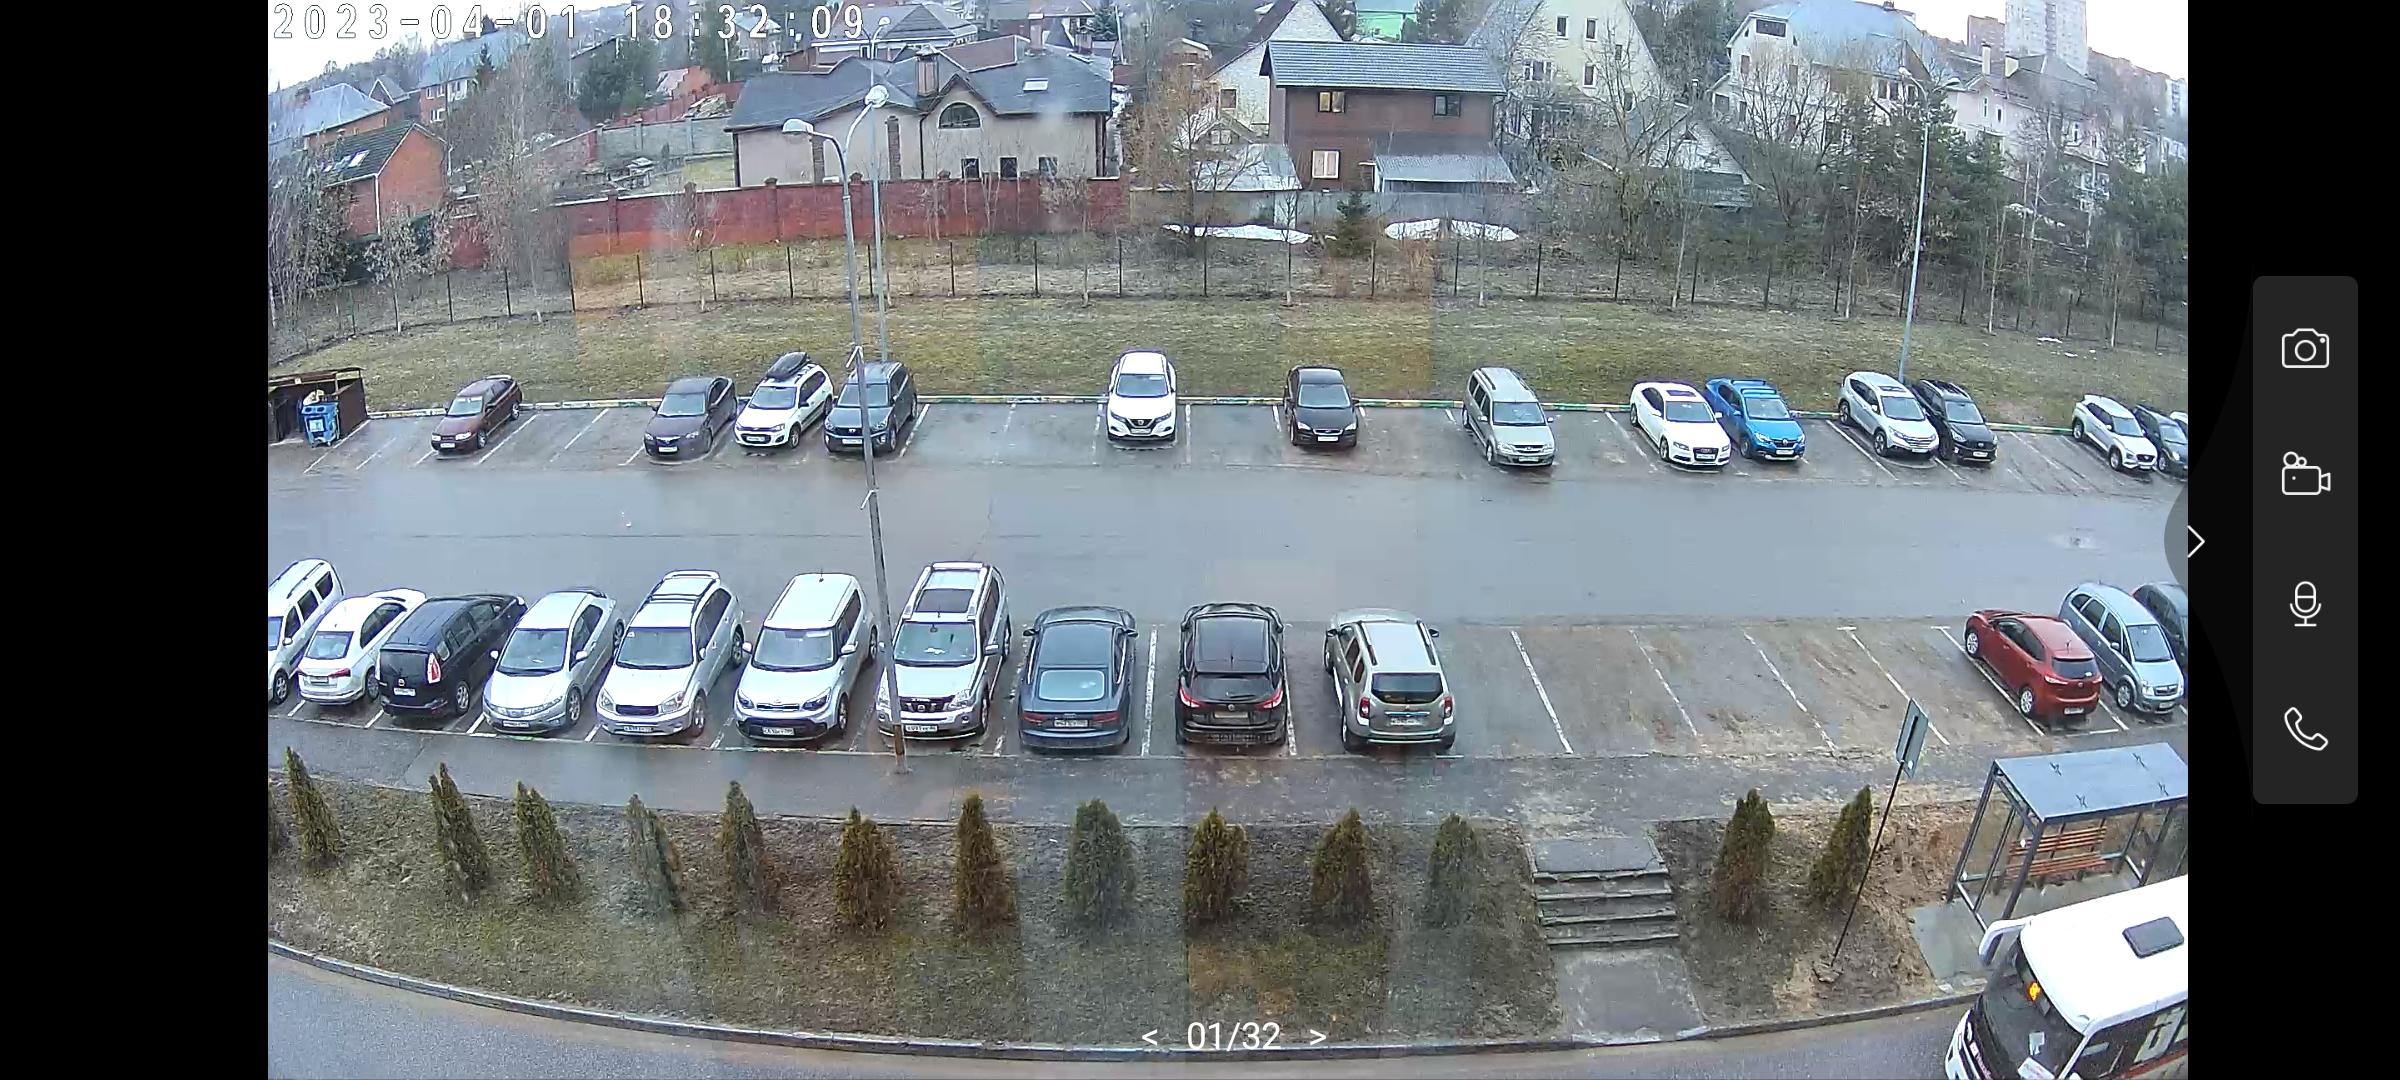empty: (1997, 867, 2216, 1080), (718, 575, 882, 747), (456, 587, 618, 743), (314, 584, 493, 724), (1001, 607, 1153, 760), (1156, 609, 1310, 756), (1329, 618, 1488, 754), (1958, 610, 2124, 731), (274, 574, 401, 710), (1835, 373, 1981, 467), (1616, 378, 1759, 473), (1449, 370, 1577, 476), (1081, 350, 1209, 453), (719, 356, 843, 457), (399, 376, 531, 462), (1696, 382, 1821, 471), (801, 358, 912, 457), (1263, 364, 1381, 457), (2100, 595, 2190, 716), (637, 375, 745, 464), (2056, 398, 2173, 477)
occupied: (1531, 635, 1673, 739), (1662, 635, 1780, 734), (1541, 378, 1644, 488), (998, 375, 1102, 479), (1792, 635, 1889, 737), (923, 372, 1006, 485), (1442, 641, 1535, 737), (1906, 633, 1985, 724), (571, 385, 652, 473), (1783, 399, 1861, 477), (504, 384, 571, 473), (1990, 407, 2057, 493), (1374, 410, 1446, 464), (2046, 421, 2103, 485), (1194, 405, 1263, 454), (386, 399, 433, 465), (335, 405, 378, 467)
